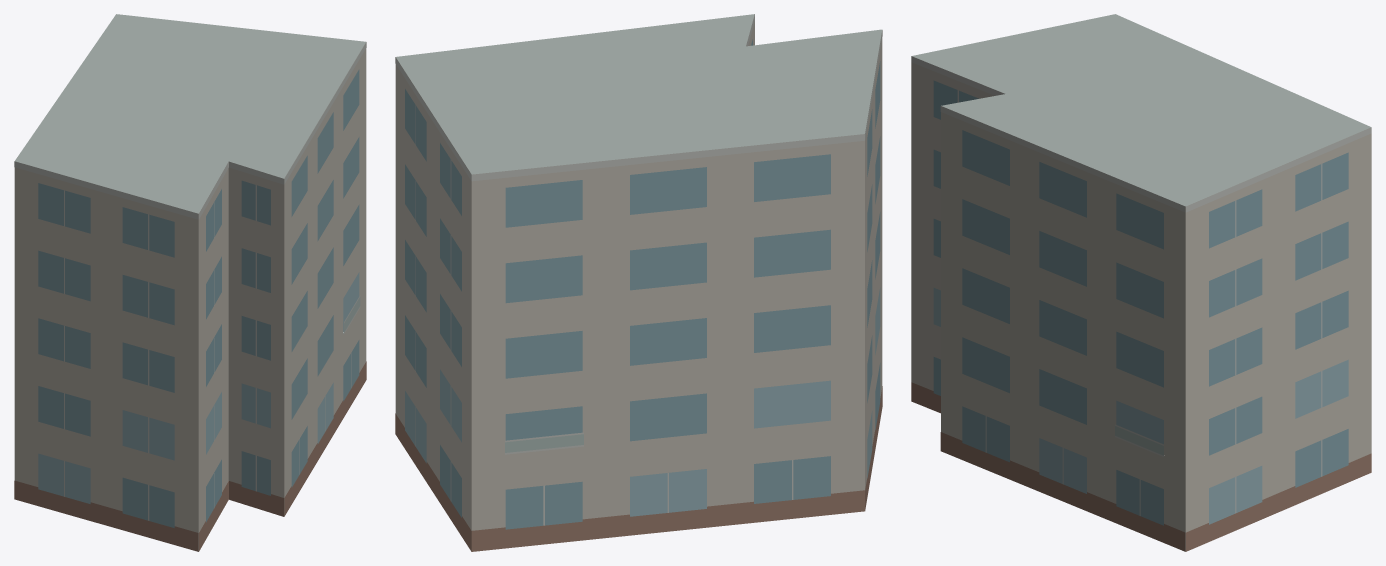
File: survey-upis-32512327.glb
3 renders of one model, left to right at view 1: azimuth 30°, elevation 25°; view 2: azimuth 150°, elevation 25°; view 3: azimuth 270°, elevation 25°, orthographic. The views are drawn at different scales.
Parts seen in each view (by area): view 1: survey-upis-32512327.tmp; view 2: survey-upis-32512327.tmp; view 3: survey-upis-32512327.tmp.
Part boxes in pixels (box(x1,y1,x2,y2)): survey-upis-32512327.tmp: box(14, 14, 366, 551); survey-upis-32512327.tmp: box(395, 14, 882, 551); survey-upis-32512327.tmp: box(911, 14, 1371, 551).
Bounding box in the file's own units: 16.39 × 13.7 × 16.55.
